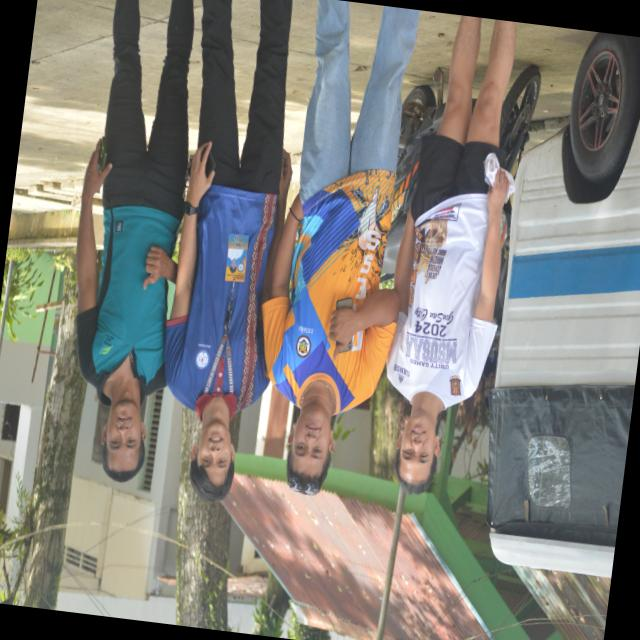person: (262, 0, 418, 494), (165, 0, 291, 501), (387, 16, 515, 493), (75, 0, 193, 481)
